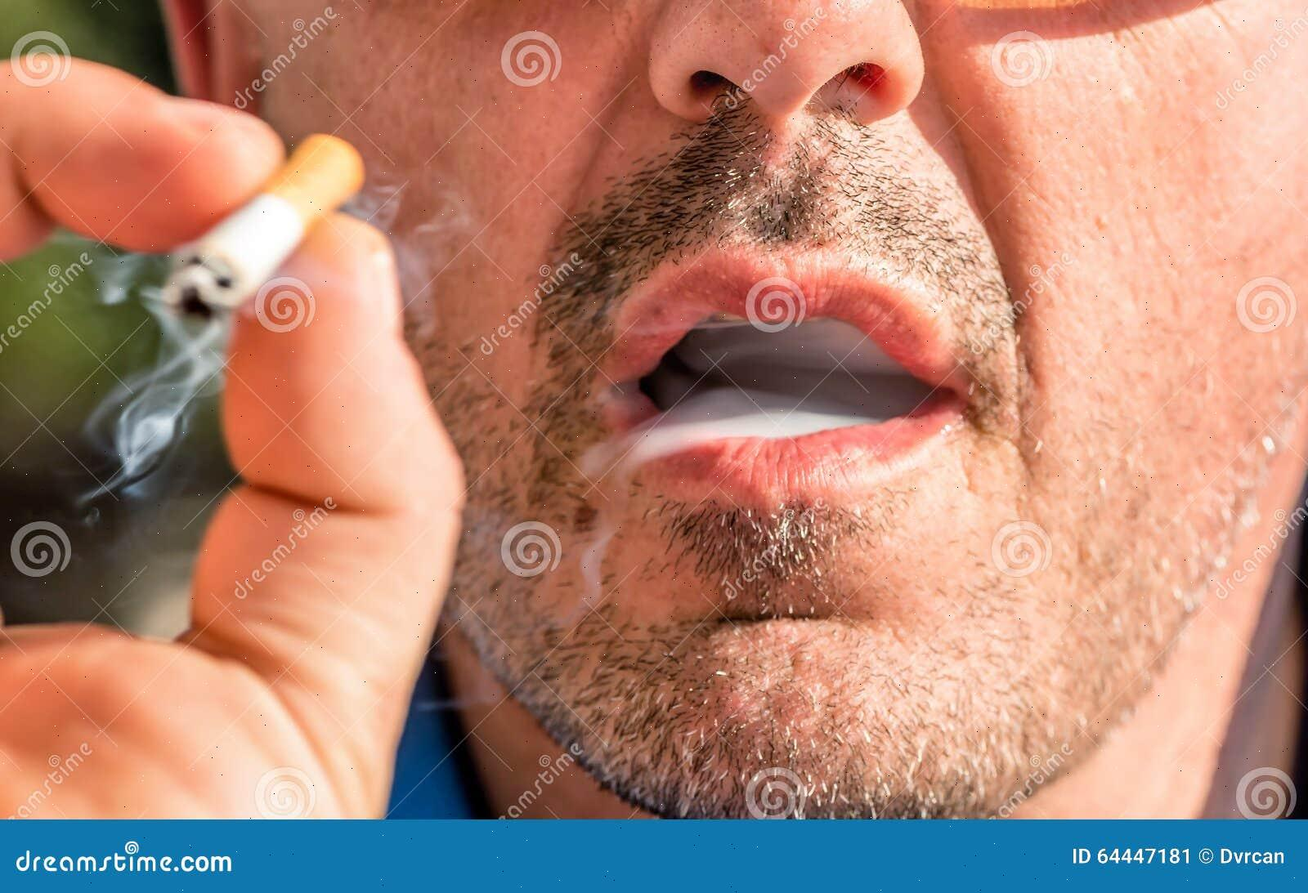cigarette: (163, 135, 365, 312)
